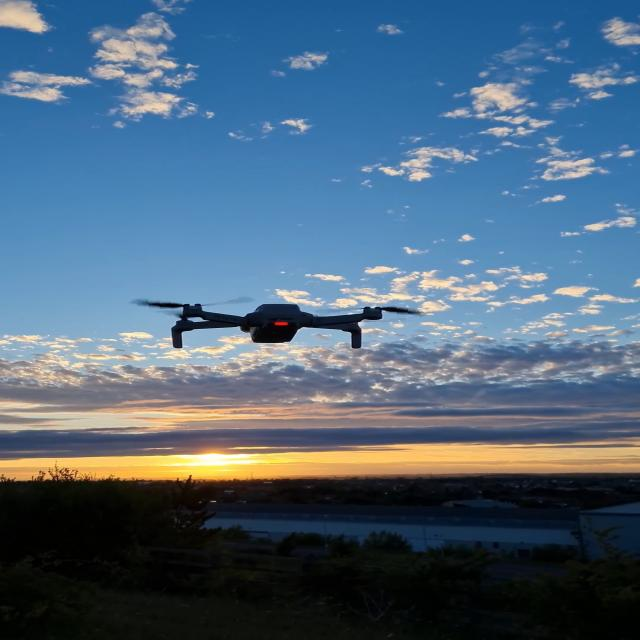Drone: (136, 283, 404, 377)
